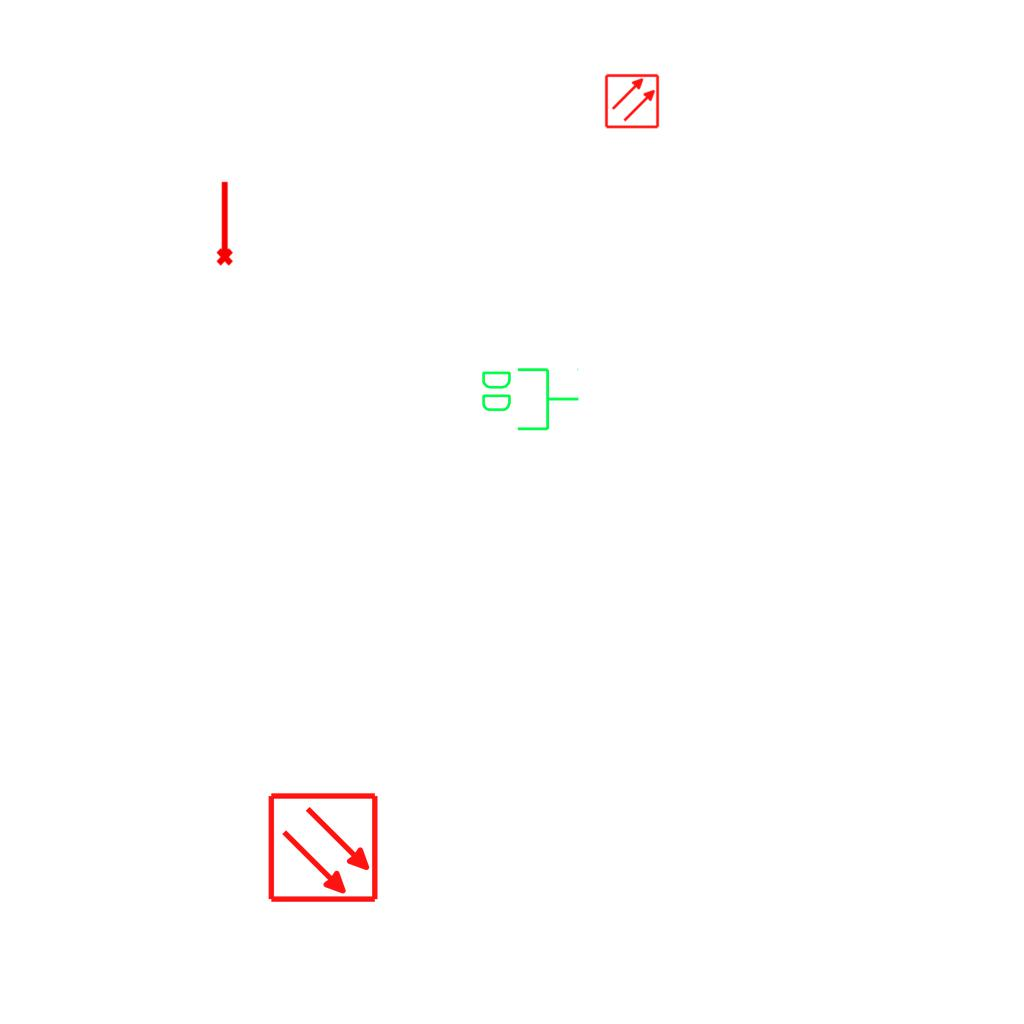ASR_Ansaugoeffnung: (212, 179, 235, 267)
Datenanschluss_zweifach: (478, 364, 581, 433)
RMO_Rauchmelder_optischer: (267, 791, 380, 904), (604, 73, 660, 129)
